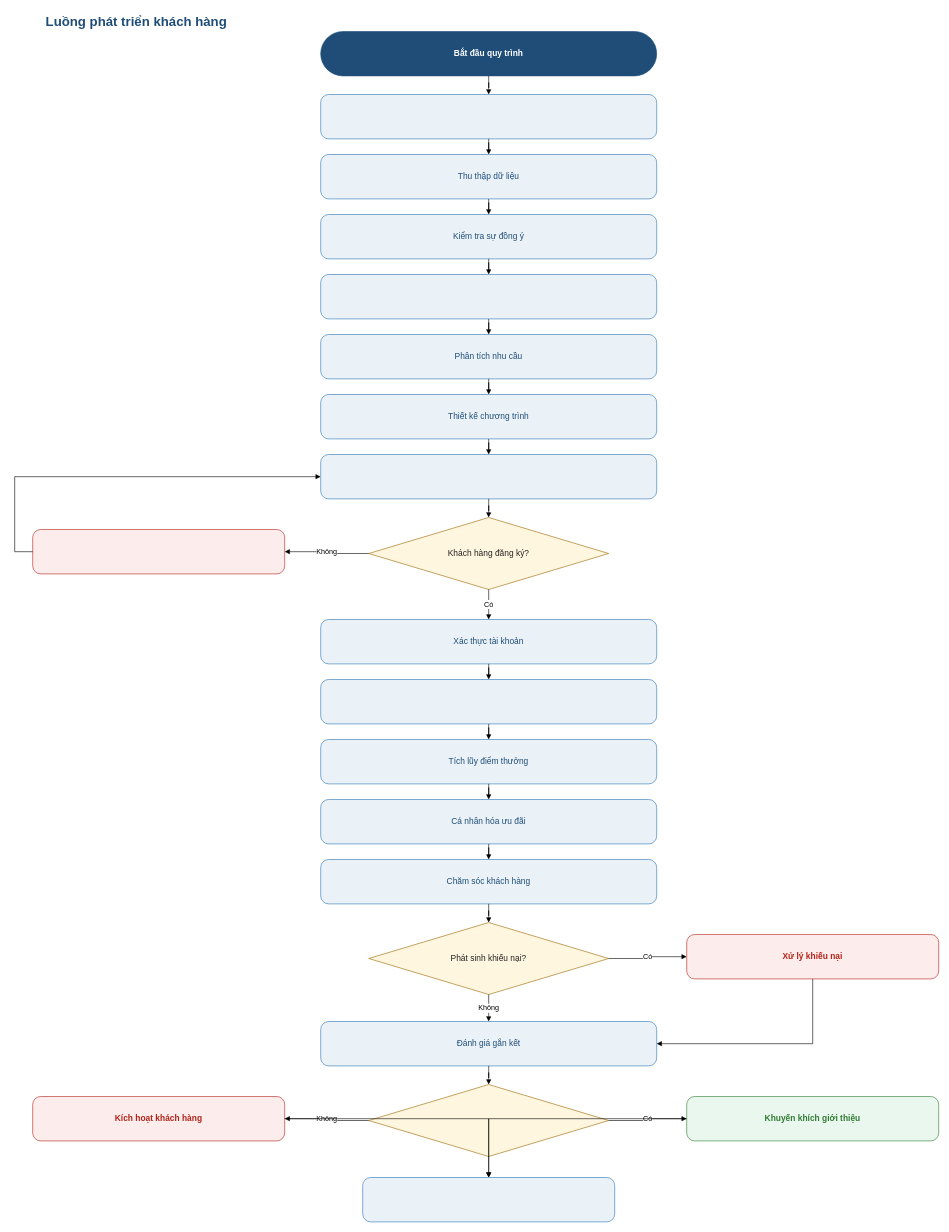
This 949x1232 diagram has some shape labels left out. The shapes that lost their labels are listed below. From the top down, each one's box as (x1, y1, x2, y2) in pixels, then its label:
(320, 94, 657, 139): Xác định khách hàng
(320, 274, 657, 319): Phân khúc khách hàng
(320, 454, 657, 499): Tiếp cận khách hàng
(32, 529, 285, 574): Điều chỉnh chiến dịch
(320, 679, 657, 724): Ghi nhận giao dịch
(368, 1084, 609, 1156): Khách hàng gắn kết?
(362, 1177, 615, 1222): Đo lường hiệu quả
